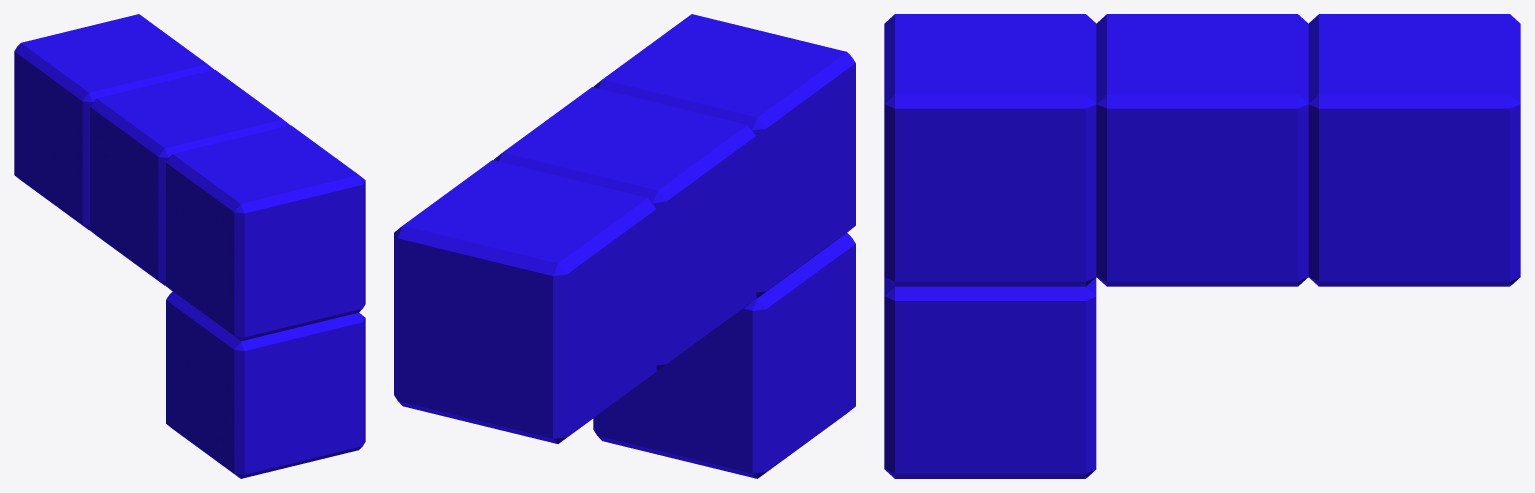
File: L-block.obj
3 views of the same model, side by side, from view 1: azimuth 30°, elevation 25°; view 2: azimuth 150°, elevation 25°; view 3: azimuth 270°, elevation 25° (orthographic). The views are drawn at different scales.
Visible parts, largest first — view 1: L-Block_Cube.017; view 2: L-Block_Cube.017; view 3: L-Block_Cube.017.
Part boxes in pixels (x1,y1,x2,y2): L-Block_Cube.017: [14, 14, 365, 478]; L-Block_Cube.017: [394, 14, 855, 478]; L-Block_Cube.017: [884, 14, 1520, 478].
Bounding box in the file's own units: 2 × 4 × 6.
1 material, 1 textured.
